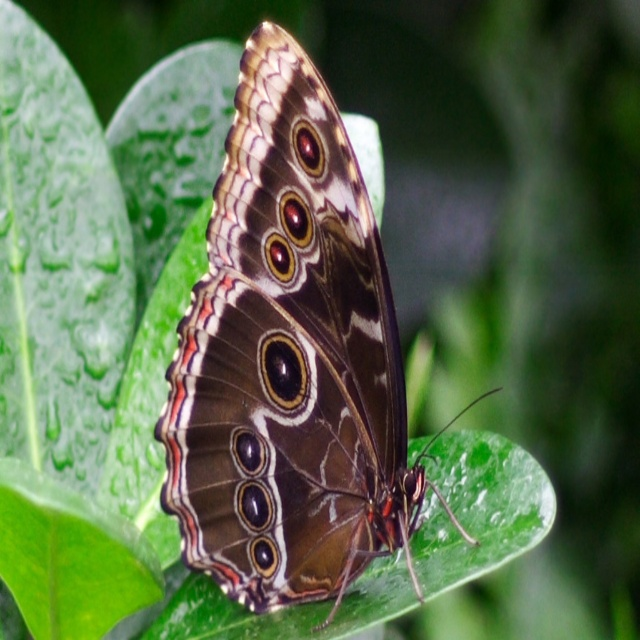Butterfly: (147, 8, 514, 630)
